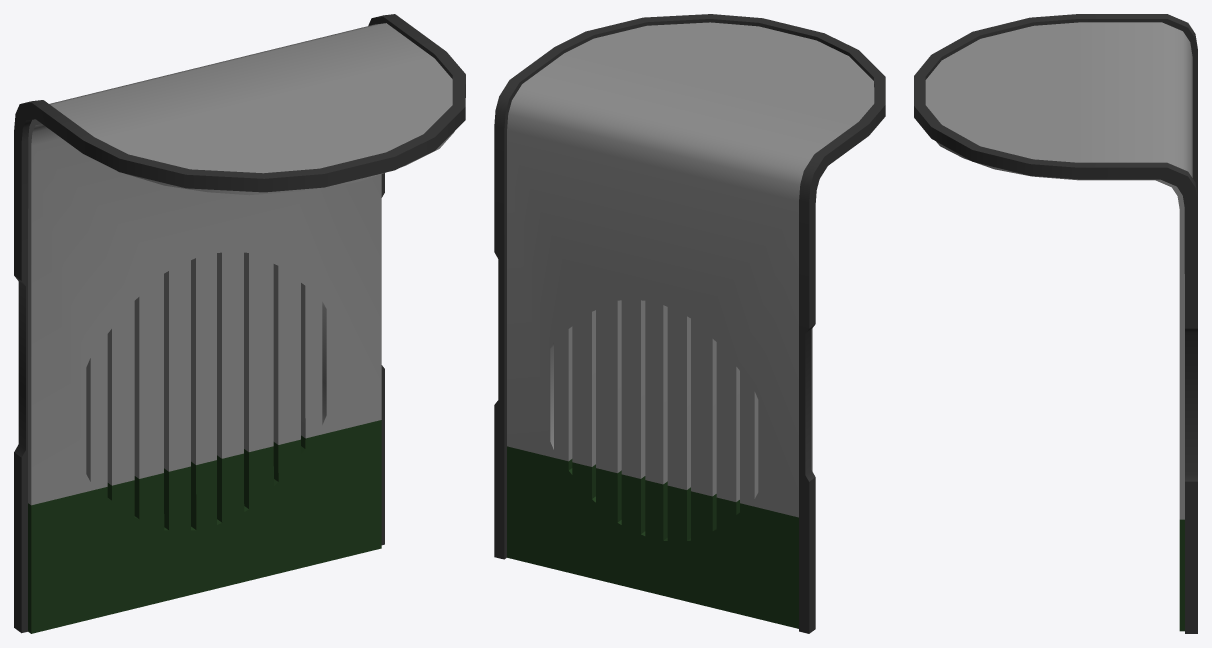
File: W_O_Shade_002_L1.fbx
3 renders of one model, left to right at view 1: azimuth 30°, elevation 25°; view 2: azimuth 150°, elevation 25°; view 3: azimuth 270°, elevation 25°, orthographic. The views are drawn at different scales.
Visible parts, largest first — view 1: W_O_Shade_002_L1; view 2: W_O_Shade_002_L1; view 3: W_O_Shade_002_L1.
Part boxes in pixels (bbox=[...]): W_O_Shade_002_L1: bbox=[14, 14, 465, 633]; W_O_Shade_002_L1: bbox=[494, 14, 885, 633]; W_O_Shade_002_L1: bbox=[914, 14, 1197, 633].
Size of the model in its own units: 2.8 by 3.96 by 2.19.
